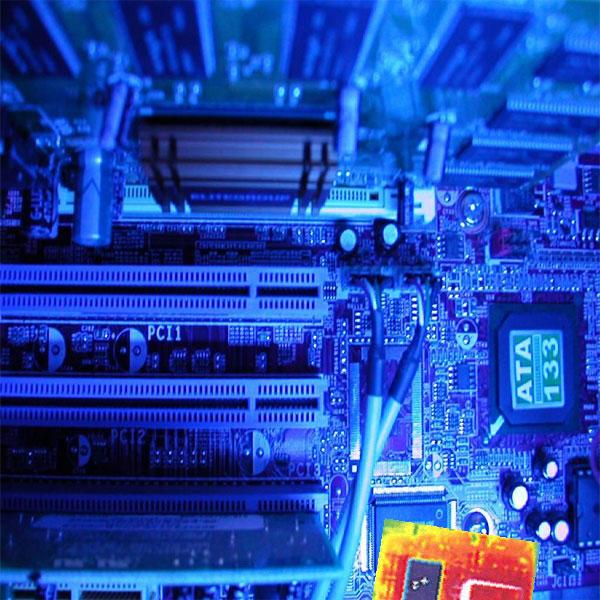componente_T: (372, 513, 543, 600)
